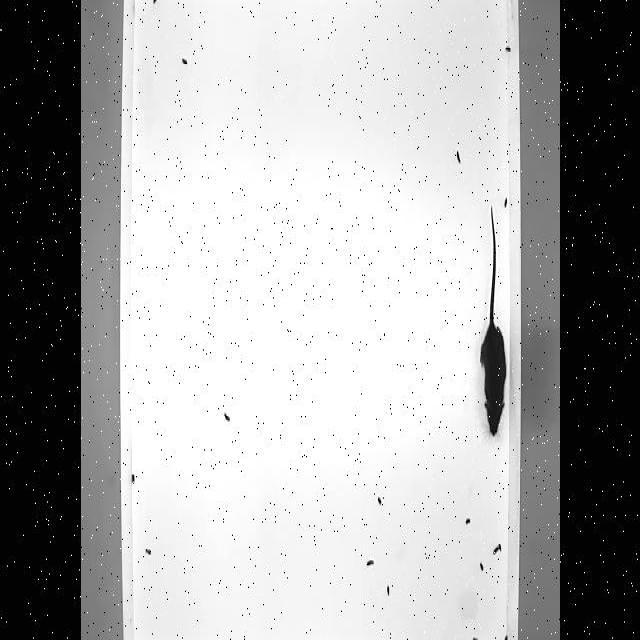rat: (479, 199, 507, 454)
